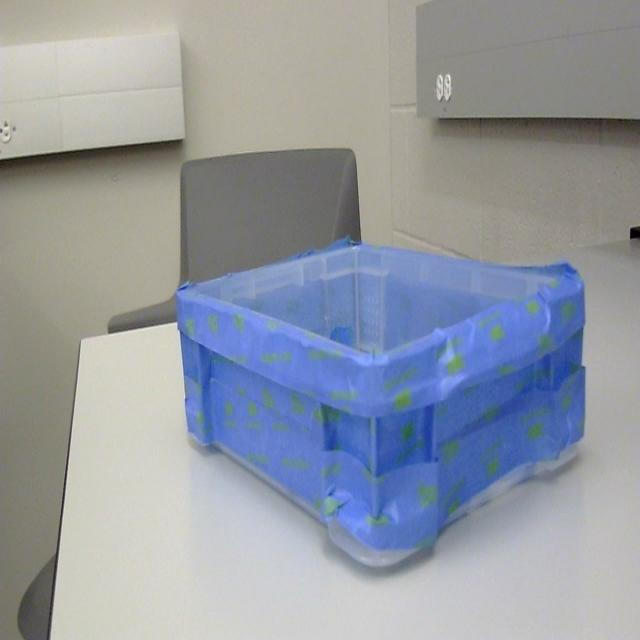bucket: (174, 239, 586, 576)
